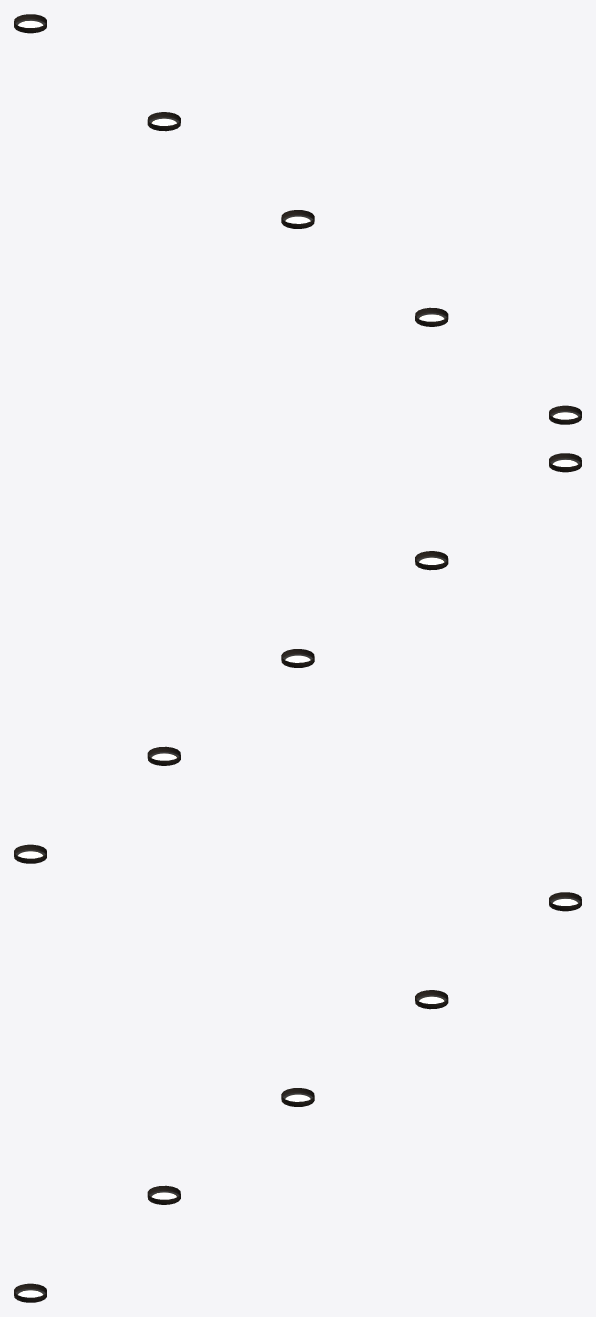
File: led-strip-left.glb
3 views of the same model, one above another, from view 1: azimuth 30°, elevation 25°; view 2: azimuth 150°, elevation 25°; view 3: azimuth 330°, elevation 25° (orthographic).
Visible parts, largest first — view 1: Sketchfab Model.004_Scene_-_Root_0; view 2: Sketchfab Model.004_Scene_-_Root_0; view 3: Sketchfab Model.004_Scene_-_Root_0.
Part boxes in pixels (<box>): Sketchfab Model.004_Scene_-_Root_0: <box>14,14,581,424</box>; Sketchfab Model.004_Scene_-_Root_0: <box>14,453,581,863</box>; Sketchfab Model.004_Scene_-_Root_0: <box>14,892,581,1302</box>.
Bounding box in the file's own units: 0.2 × 0.034 × 6.6.
1 material, 1 textured.
